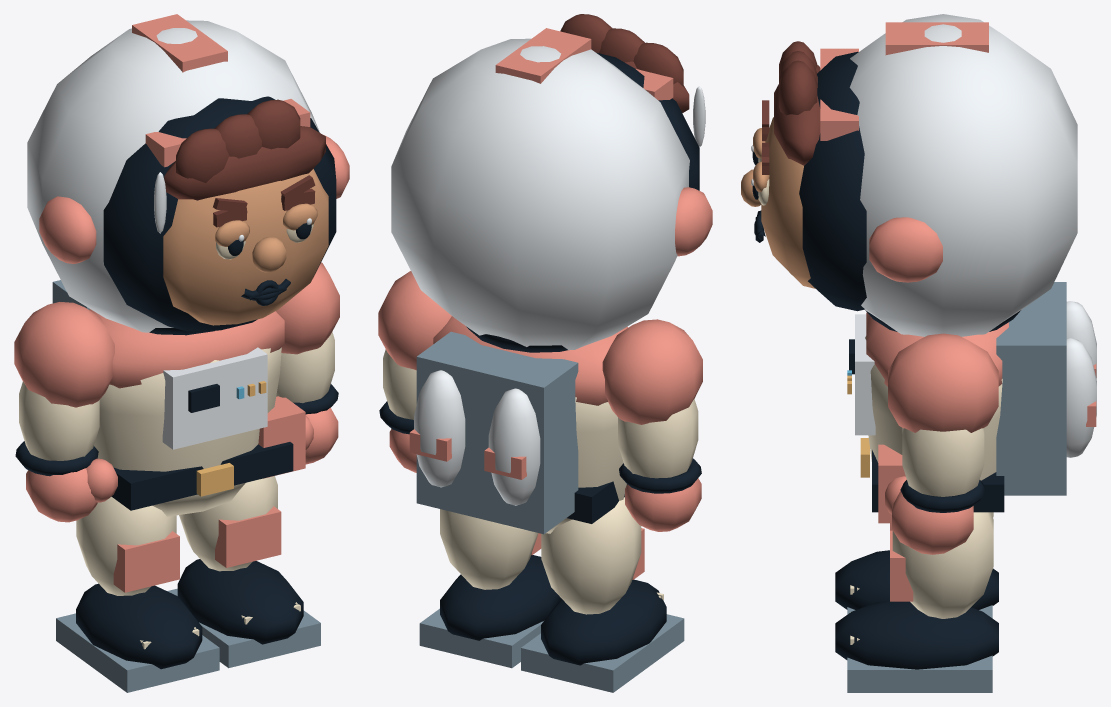
File: crew-iggy.glb
3 views of the same model, side by side, from view 1: azimuth 30°, elevation 25°; view 2: azimuth 150°, elevation 25°; view 3: azimuth 270°, elevation 25° (orthographic). The views are drawn at different scales.
Visible parts, largest first — view 1: helmet-shell, boot (×2), face, visor-gasket, shoulder (×2), pressure-suit, leg-pressure (×2), chest-panel, sleeve (×2), sole (×2), shoulder-yoke, knee-pad (×2) (+15 smaller); view 2: helmet-shell, life-pack, leg-pressure (×2), boot (×2), shoulder (×2), air-cell (×2), sole (×2), sleeve (×2), pressure-suit, swept-lock (×3), glove (×2), shoulder-yoke (+9 smaller); view 3: helmet-shell, life-pack, boot (×2), visor-gasket, shoulder, leg-pressure, sleeve, face, air-cell (×2), sole, helmet-hinge, glove (+11 smaller).
Part boxes in pixels (bbox=[...]): helmet-shell: bbox=[27, 20, 319, 334]; boot (×2): bbox=[76, 559, 303, 669]; face: bbox=[163, 169, 328, 325]; visor-gasket: bbox=[103, 96, 336, 331]; shoulder (×2): bbox=[14, 262, 339, 407]; pressure-suit: bbox=[94, 347, 281, 516]; leg-pressure (×2): bbox=[76, 476, 277, 595]; chest-panel: bbox=[162, 347, 267, 449]; sleeve (×2): bbox=[19, 332, 334, 460]; sole (×2): bbox=[56, 588, 320, 692]; shoulder-yoke: bbox=[89, 309, 284, 388]; knee-pad (×2): bbox=[113, 506, 281, 592]; helmet-shell: bbox=[391, 38, 689, 352]; life-pack: bbox=[416, 331, 578, 534]; leg-pressure (×2): bbox=[440, 497, 641, 614]; boot (×2): bbox=[440, 555, 666, 665]; shoulder (×2): bbox=[378, 271, 702, 424]; air-cell (×2): bbox=[414, 370, 540, 505]; sole (×2): bbox=[419, 608, 684, 692]; sleeve (×2): bbox=[383, 349, 698, 478]; pressure-suit: bbox=[505, 397, 626, 533]; swept-lock (×3): bbox=[560, 14, 683, 86]; glove (×2): bbox=[389, 429, 701, 531]; shoulder-yoke: bbox=[433, 316, 628, 405]; helmet-shell: bbox=[849, 14, 1077, 336]; life-pack: bbox=[996, 282, 1066, 495]; boot (×2): bbox=[835, 550, 998, 669]; visor-gasket: bbox=[799, 51, 866, 311]; shoulder: bbox=[888, 333, 998, 432]; leg-pressure: bbox=[892, 512, 993, 618]; sleeve: bbox=[902, 428, 984, 496]; face: bbox=[761, 117, 815, 288]; air-cell (×2): bbox=[1066, 301, 1096, 457]; sole: bbox=[847, 655, 992, 692]; helmet-hinge: bbox=[869, 217, 942, 282]; glove: bbox=[892, 491, 973, 554].
Bounding box in the file's own units: 1.42 × 2.62 × 1.37.
